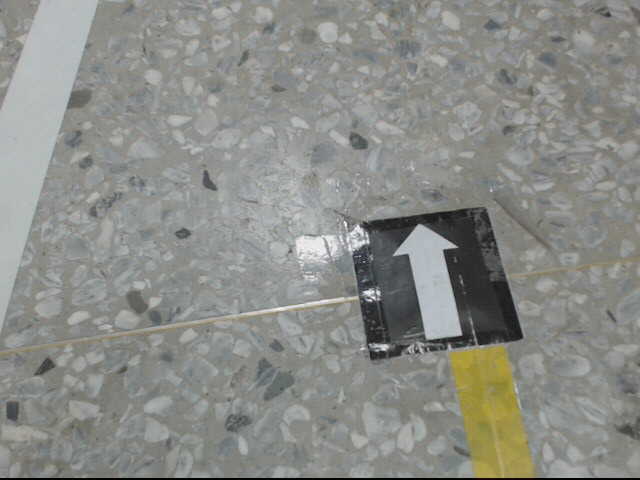straight: (346, 207, 521, 360)
